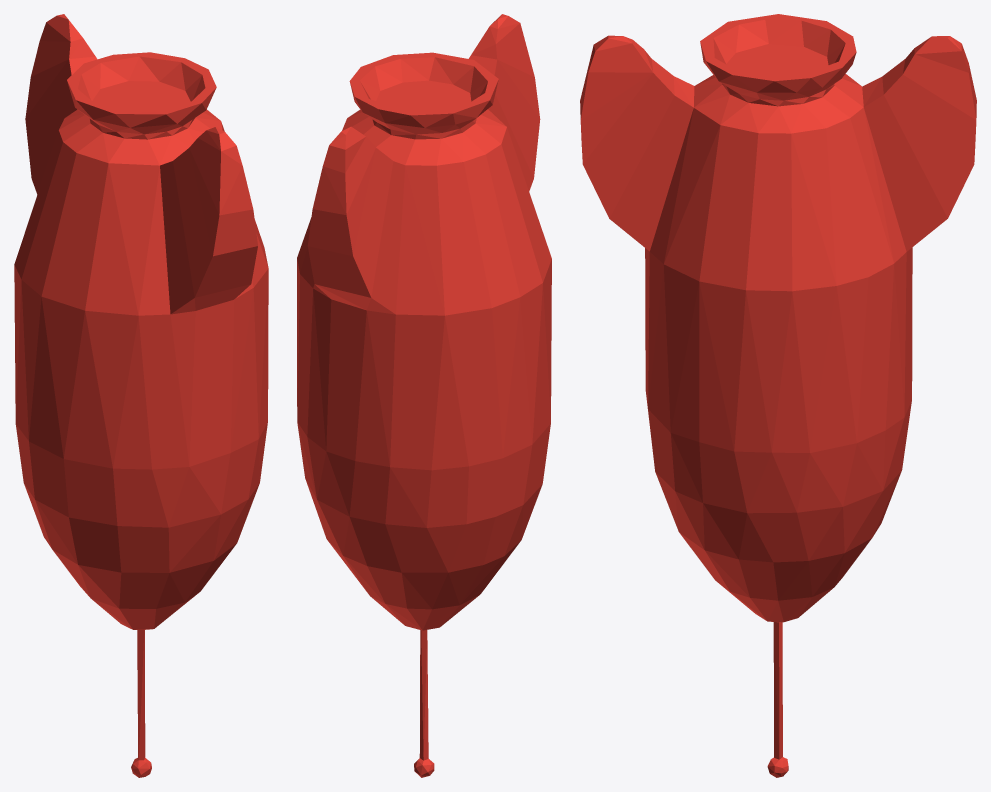
Rendered from pirate.fbx.
3 views of the same model, side by side, from view 1: azimuth 30°, elevation 25°; view 2: azimuth 150°, elevation 25°; view 3: azimuth 270°, elevation 25° (orthographic). The views are drawn at different scales.
Parts seen in each view (by area): view 1: Circle; view 2: Circle; view 3: Circle.
Part boxes in pixels (box(x1,y1,x2,y2)): Circle: box(14, 14, 268, 777); Circle: box(297, 14, 551, 777); Circle: box(580, 14, 976, 777).
Size of the model in its own units: 80.54 by 246 by 119.
